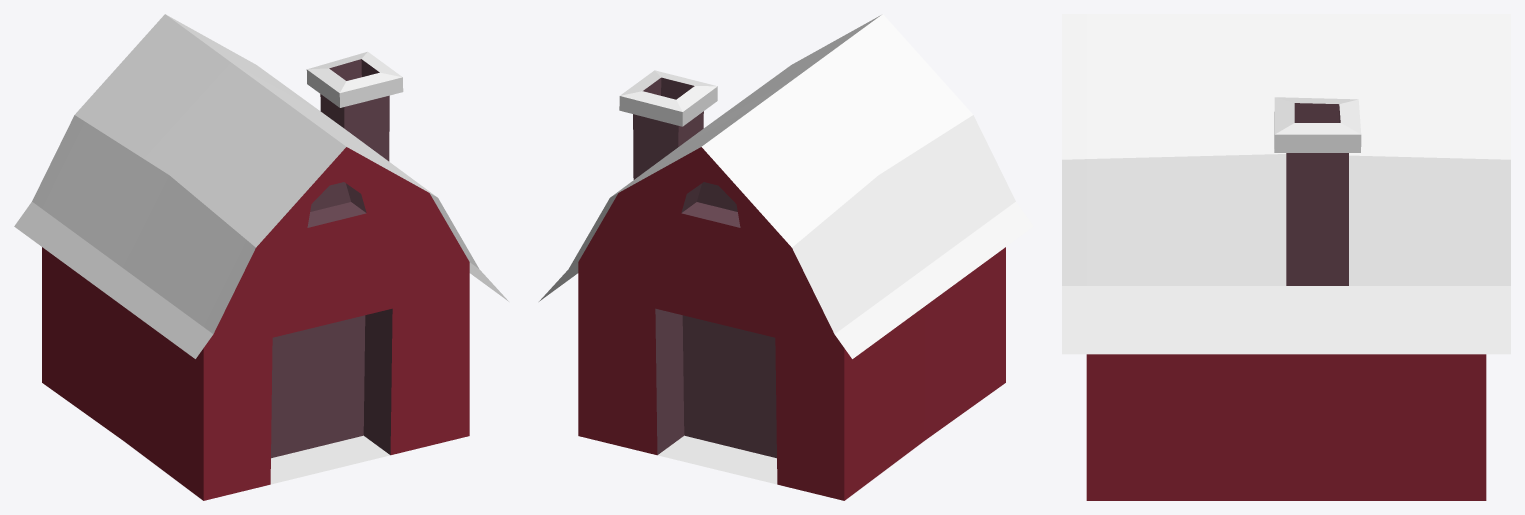
File: house.glb
3 renders of one model, left to right at view 1: azimuth 30°, elevation 25°; view 2: azimuth 150°, elevation 25°; view 3: azimuth 270°, elevation 25°, orthographic. The views are drawn at different scales.
Parts seen in each view (by area): view 1: Cube; view 2: Cube; view 3: Cube.
Boxes of the visible parts, x1,y1,x2,y2 form: Cube: (14,14,508,500); Cube: (539,14,1033,500); Cube: (1062,14,1510,500).
Bounding box in the file's own units: 1 × 1 × 1.
